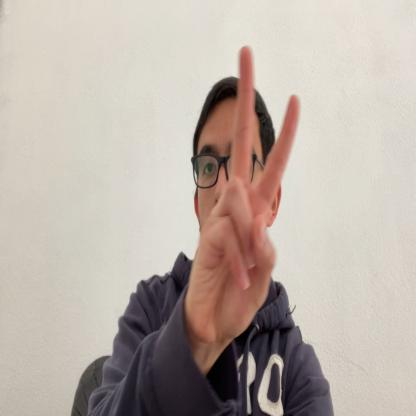V: (188, 46, 301, 350)
